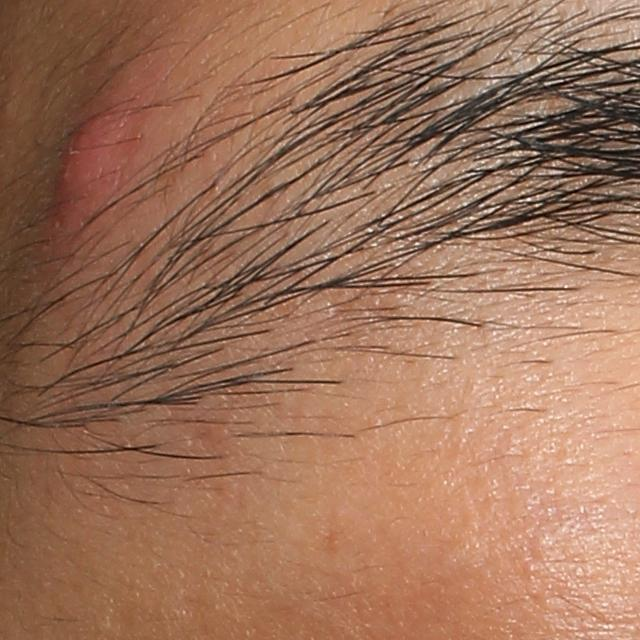nodule: (46, 92, 131, 257)
